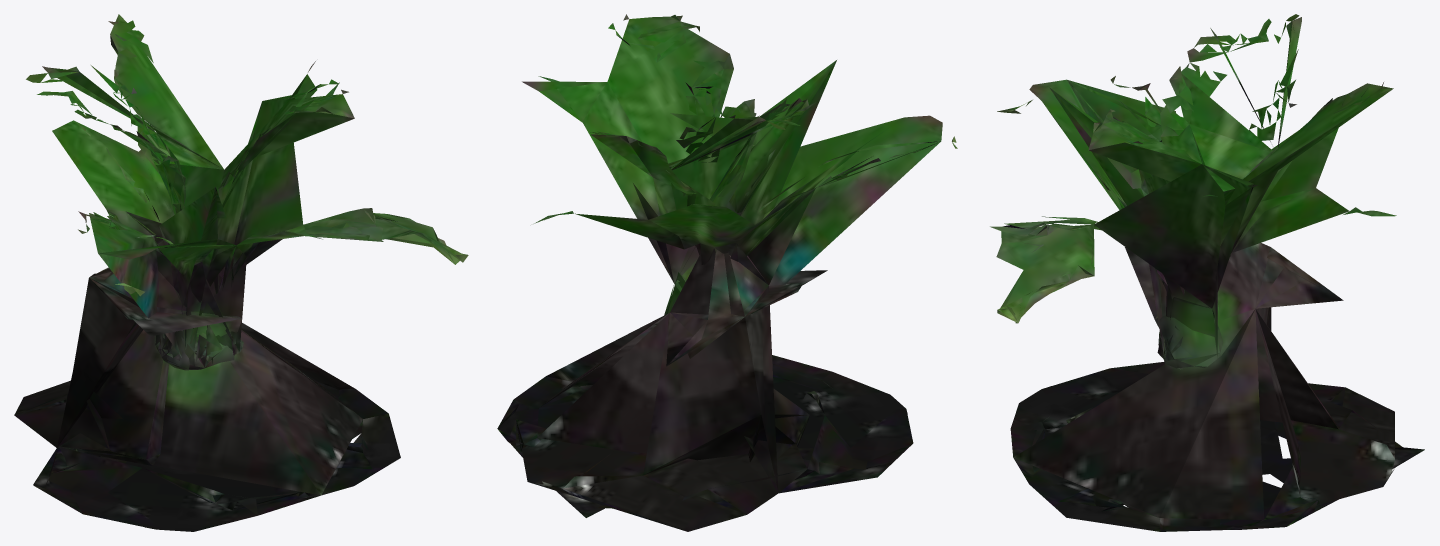
Rendered from alien_plant_1225099865_lod0.glb.
3 views of the same model, side by side, from view 1: azimuth 30°, elevation 25°; view 2: azimuth 150°, elevation 25°; view 3: azimuth 270°, elevation 25° (orthographic). The views are drawn at different scales.
Size of the model in its own units: 2.08 by 2.13 by 2.19.
1 material, 1 textured.
